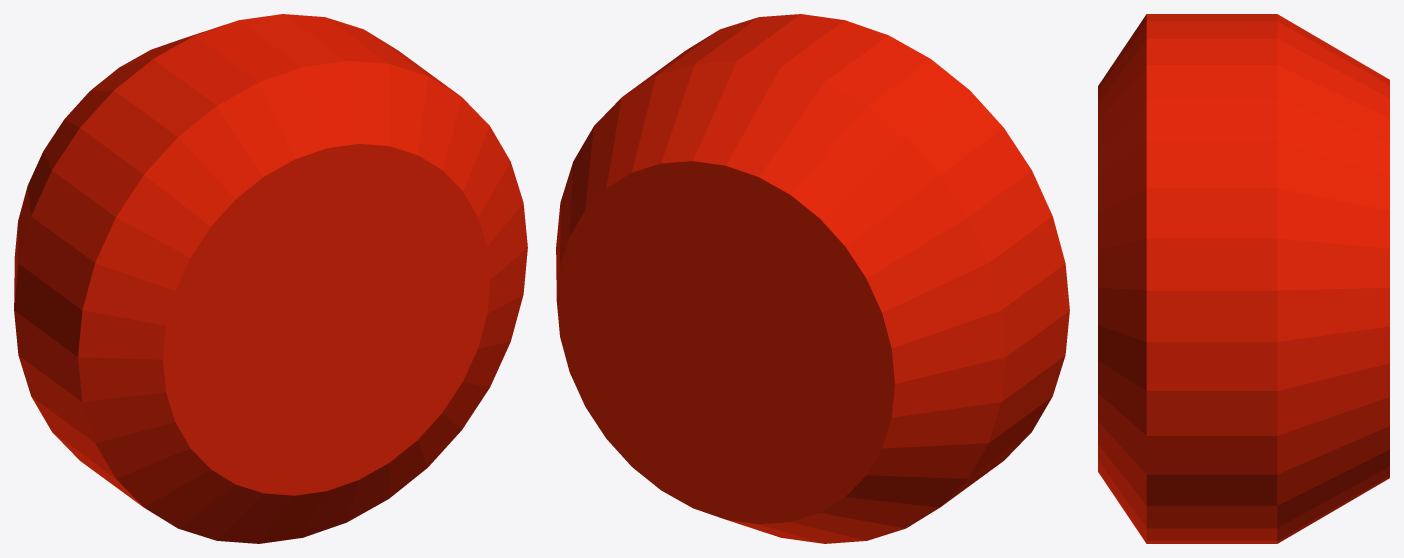
File: 插线板5配件.fbx
3 views of the same model, side by side, from view 1: azimuth 30°, elevation 25°; view 2: azimuth 150°, elevation 25°; view 3: azimuth 270°, elevation 25° (orthographic). The views are drawn at different scales.
Parts seen in each view (by area): view 1: 柱体; view 2: 柱体; view 3: 柱体.
Boxes of the visible parts, x1=… form: 柱体: x1=14, y1=14, x2=527, y2=543; 柱体: x1=556, y1=14, x2=1069, y2=543; 柱体: x1=1098, y1=14, x2=1389, y2=543.
Bounding box in the file's own units: 187 × 187 × 103.
